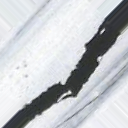crackTip: (3, 1, 128, 128)
